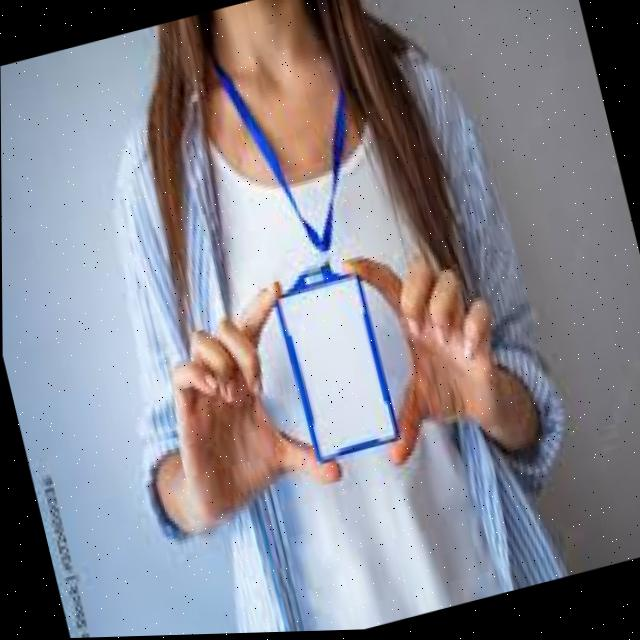id_card: (189, 4, 433, 488)
